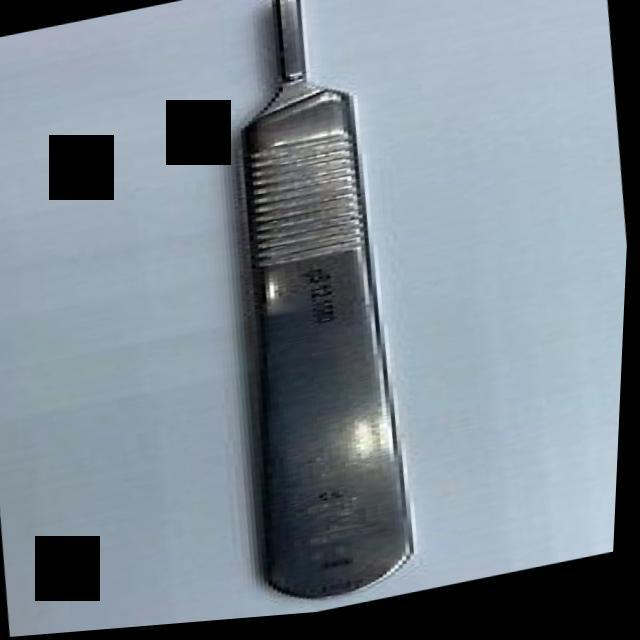Surgical blade: (175, 0, 452, 627)
